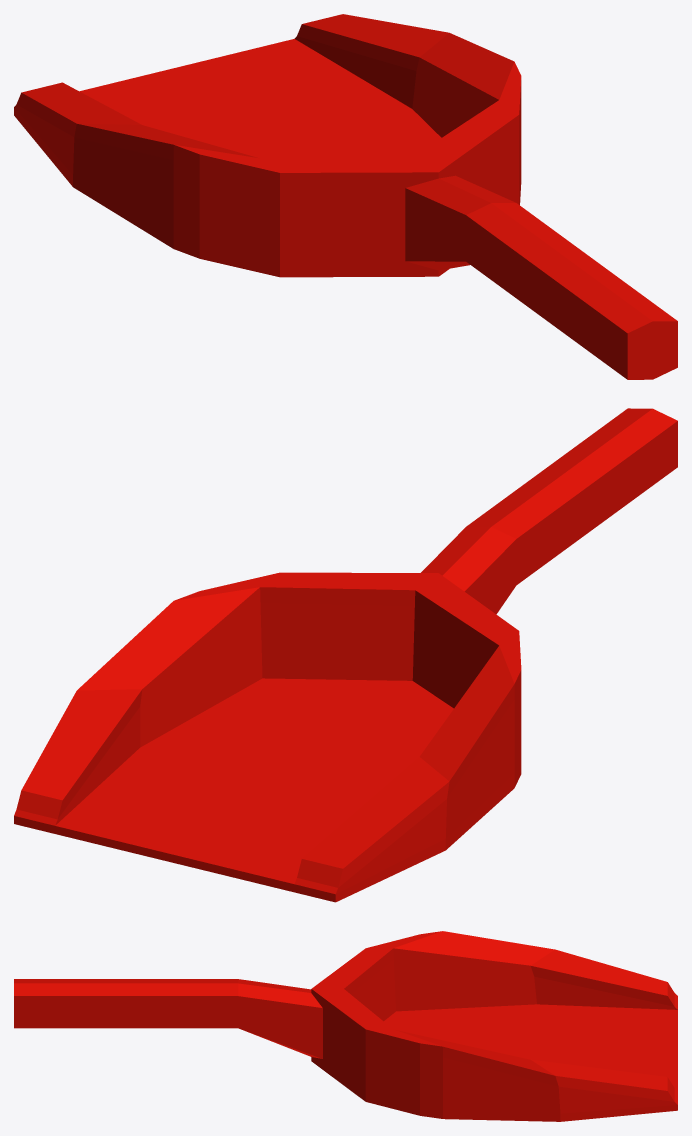
File: Dustpan.fbx
3 views of the same model, one above another, from view 1: azimuth 30°, elevation 25°; view 2: azimuth 150°, elevation 25°; view 3: azimuth 270°, elevation 25° (orthographic). The views are drawn at different scales.
Parts seen in each view (by area): view 1: Cube; view 2: Cube; view 3: Cube.
Part boxes in pixels (x1,y1,x2,y2): Cube: (14,14,677,379); Cube: (14,408,677,902); Cube: (14,931,677,1121).
Size of the model in its own units: 232 by 66.62 by 515.
